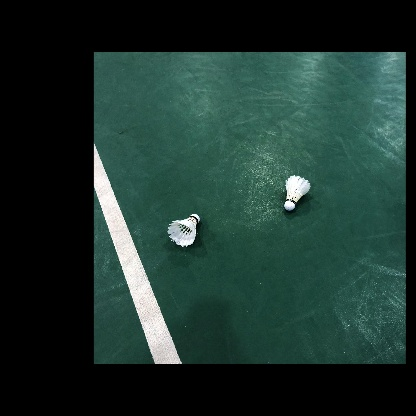ball_single: (167, 214, 200, 247), (284, 175, 311, 211)
